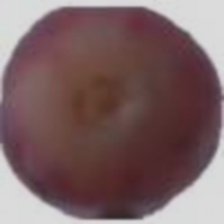grapes: (61, 48, 197, 220)
